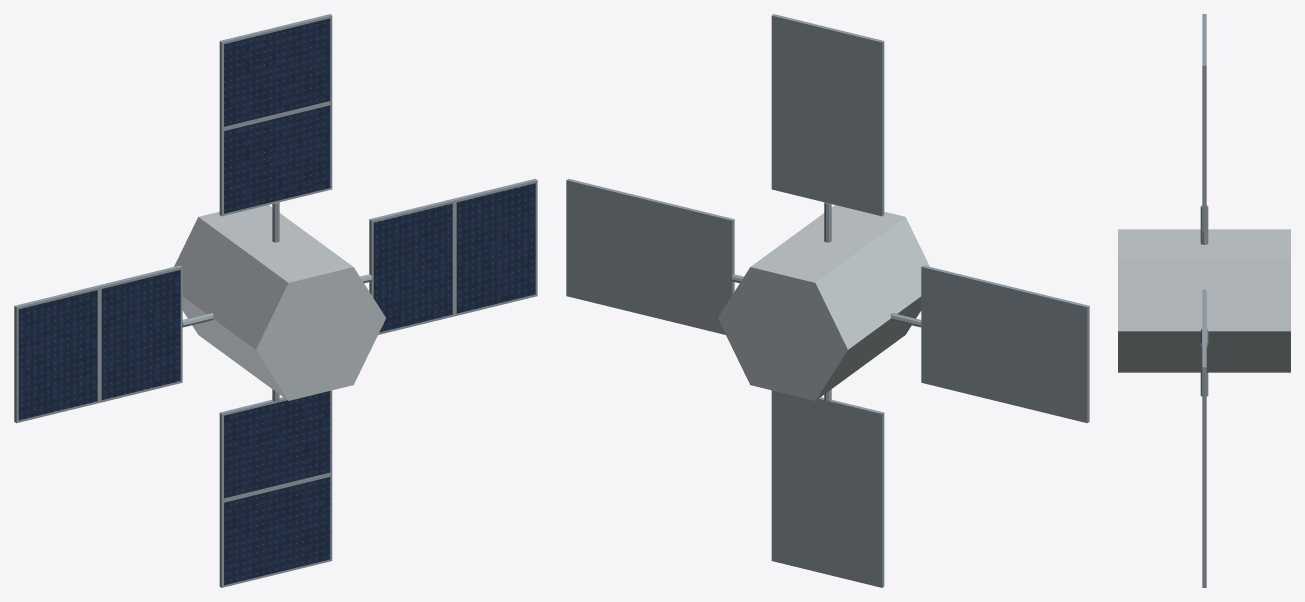
The model's file is ref-minisat-24779.glb.
3 renders of one model, left to right at view 1: azimuth 30°, elevation 25°; view 2: azimuth 150°, elevation 25°; view 3: azimuth 270°, elevation 25°, orthographic. The views are drawn at different scales.
Parts seen in each view (by area): view 1: Photovoltaic laminates (×8), Spacecraft body, Array frame (×8); view 2: Array frame (×8), Spacecraft body; view 3: Spacecraft body, Array frame (×4), Solar array drive.
Part boxes in pixels (left/top/right/bottom): Photovoltaic laminates (×8): left=18, top=18, right=535, bottom=585; Spacecraft body: left=174, top=205, right=385, bottom=400; Array frame (×8): left=14, top=14, right=537, bottom=587; Array frame (×8): left=566, top=14, right=1089, bottom=587; Spacecraft body: left=718, top=205, right=929, bottom=400; Spacecraft body: left=1118, top=229, right=1290, bottom=372; Array frame (×4): left=1202, top=14, right=1206, bottom=587; Solar array drive: left=1200, top=205, right=1208, bottom=244.
Size of the model in its own units: 4 by 4 by 1.2.
Materials: 3 (1 with a texture image).
